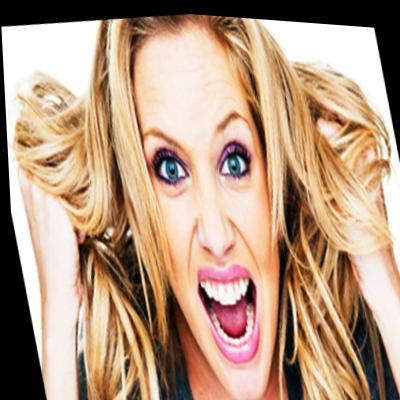angry: (116, 26, 296, 390)
